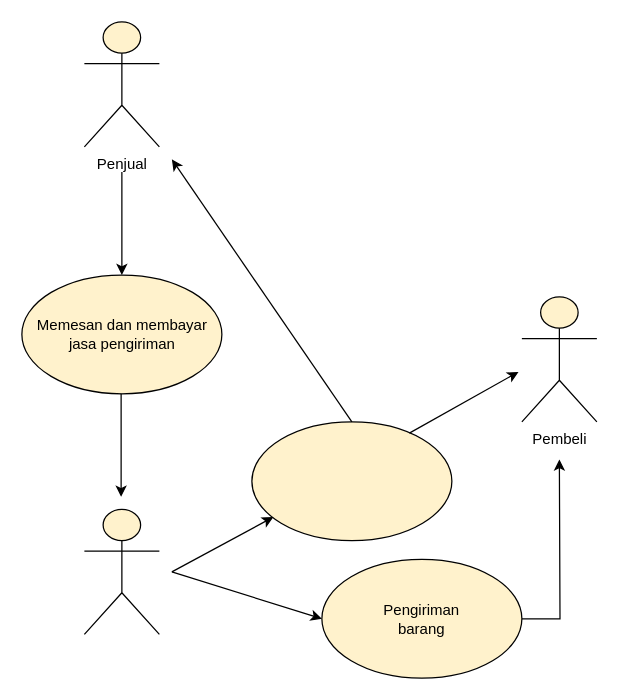
Image size: 619x700. Some labels were removed from this diagram. The shapes that lost their labels are listed below. From the top down, each one's box as (x1, y1, x2, y2) in pixels, then its label:
(251, 421, 452, 541): Memberikan nomor resi
(83, 508, 159, 634): Ekspedisi
